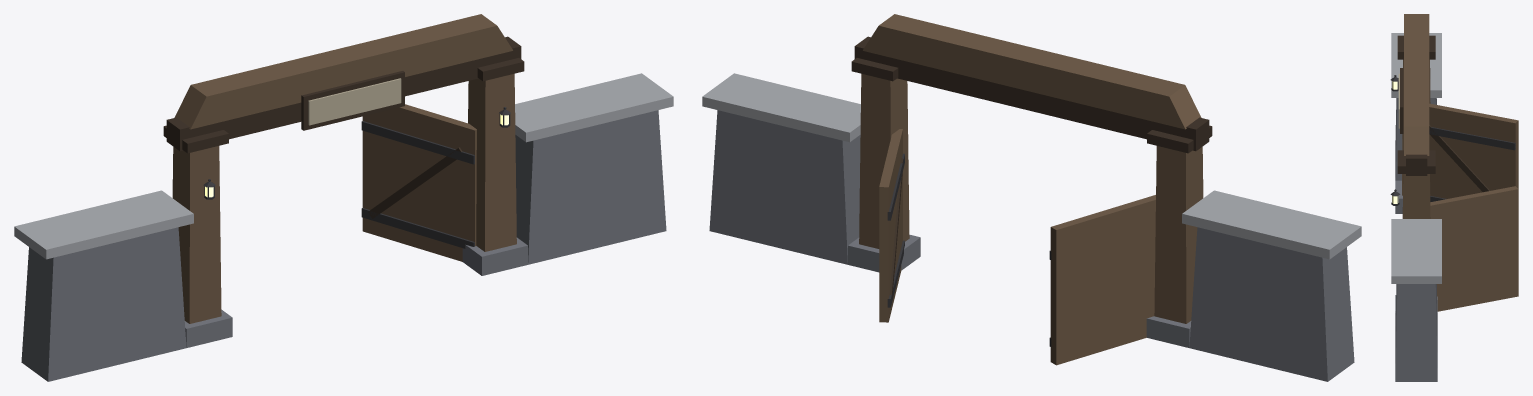
The model's file is bree_gate_stone.glb.
3 views of the same model, side by side, from view 1: azimuth 30°, elevation 25°; view 2: azimuth 150°, elevation 25°; view 3: azimuth 270°, elevation 25° (orthographic). The views are drawn at different scales.
Parts seen in each view (by area): view 1: bree_gate_stone; view 2: bree_gate_stone; view 3: bree_gate_stone.
Part boxes in pixels (box(x1,y1,x2,y2)): bree_gate_stone: box(14, 14, 673, 381); bree_gate_stone: box(702, 14, 1361, 381); bree_gate_stone: box(1390, 14, 1518, 381).
Size of what is drawn, in the model's own units: 13.6 by 5 by 3.03.
